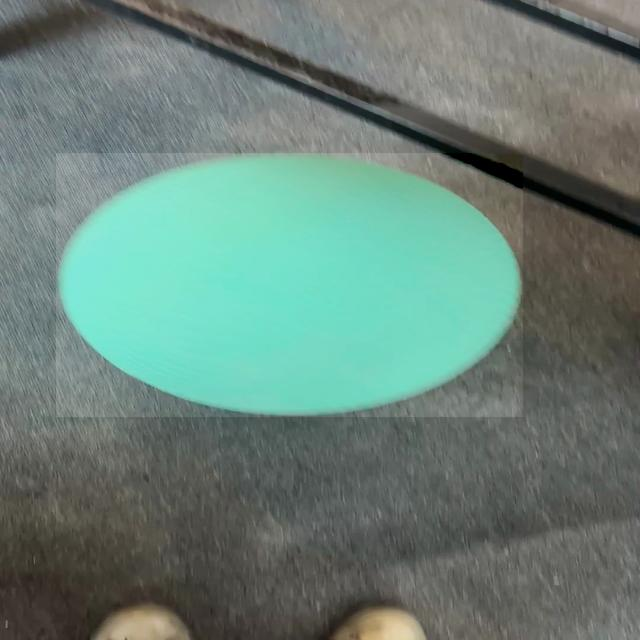Algae: (56, 153, 523, 417)
